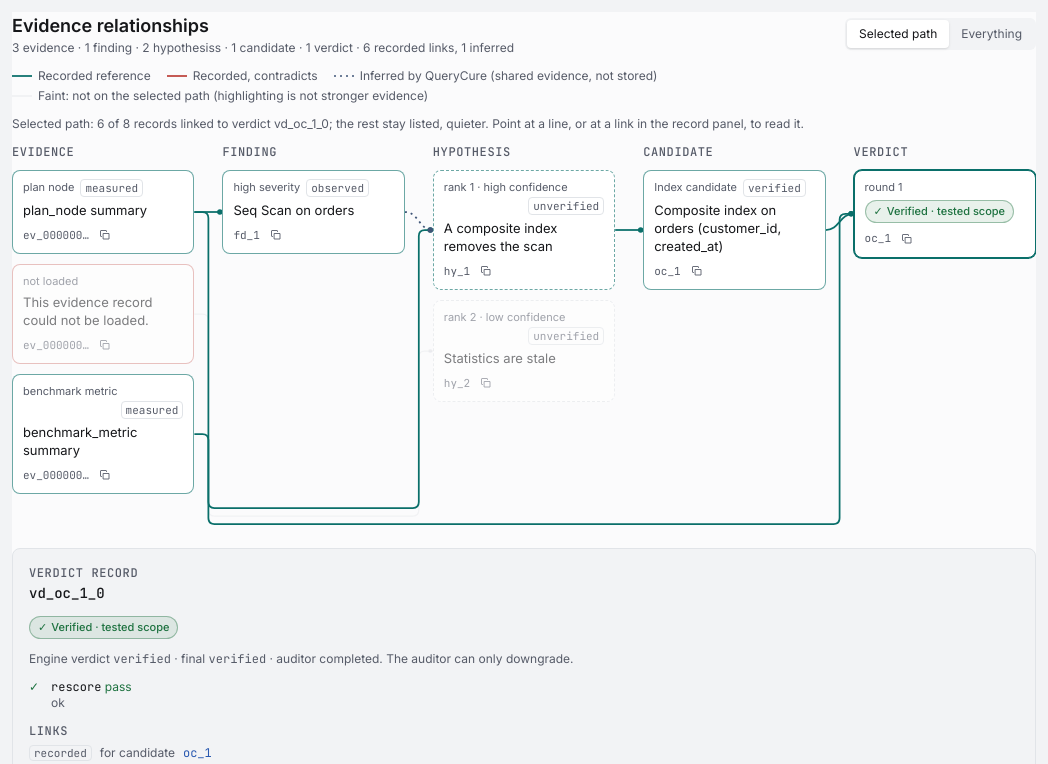
recorded and inferred links are told apart in the legend and in the record
The image size is (1048, 764).
Expected: the list item "Recorded reference" is shown, left=12, top=68, right=151, bottom=84
Expected: the list item "Inferred by QueryCure (shared evidence, not stored)" is shown, left=334, top=68, right=657, bottom=84
Step 1. Click the button with aria-label "Finding fd_1" → coordinates (314, 197), box left=223, top=171, right=404, bottom=223
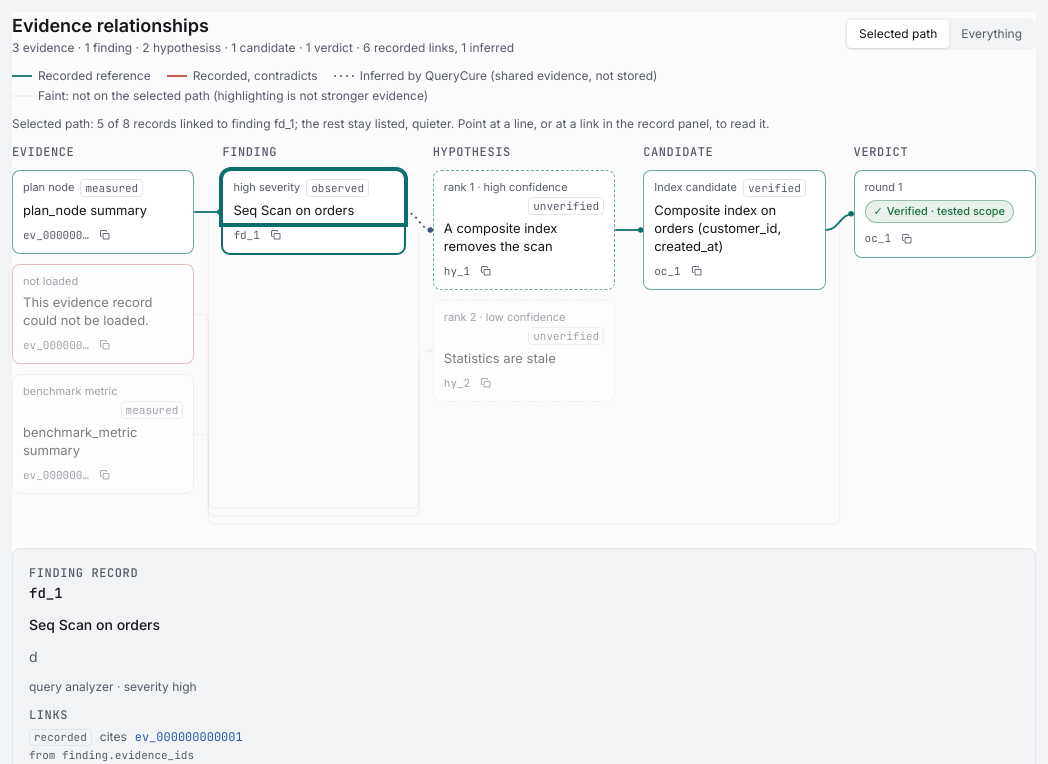
Now the text "from finding.evidence_ids" is shown, box left=29, top=748, right=194, bottom=762
